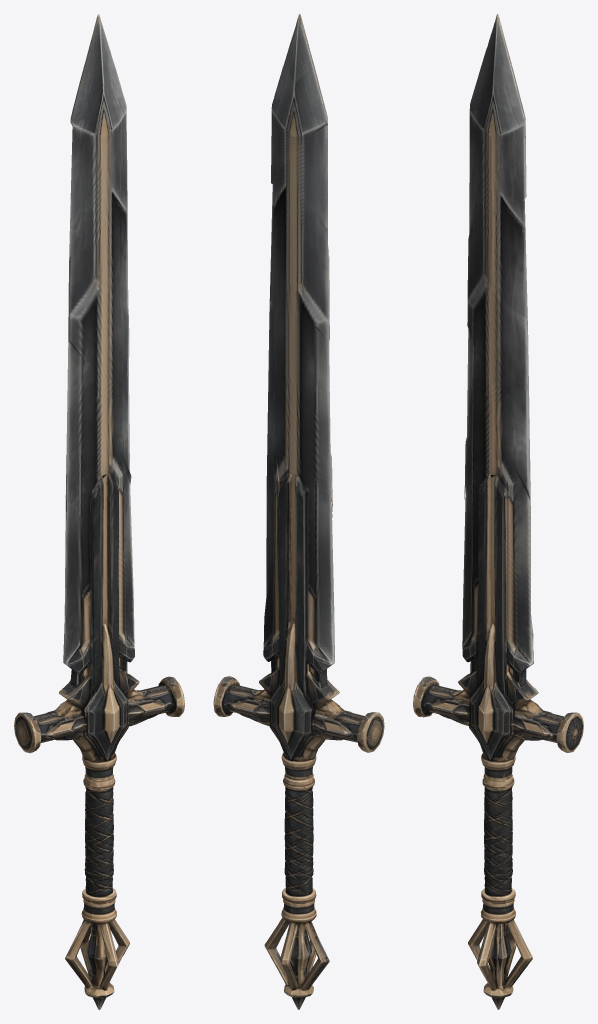
Rendered from GRS069_Remesh_10k.fbx.
3 views of the same model, side by side, from view 1: azimuth 30°, elevation 25°; view 2: azimuth 150°, elevation 25°; view 3: azimuth 330°, elevation 25° (orthographic).
Parts seen in each view (by area): view 1: output_unwrapped; view 2: output_unwrapped; view 3: output_unwrapped.
Part boxes in pixels (bbox=[...]): output_unwrapped: bbox=[14, 14, 184, 1009]; output_unwrapped: bbox=[213, 14, 384, 1009]; output_unwrapped: bbox=[413, 14, 583, 1009].
Bounding box in the file's own units: 30.97 × 191 × 12.78.
1 material, 1 textured.
